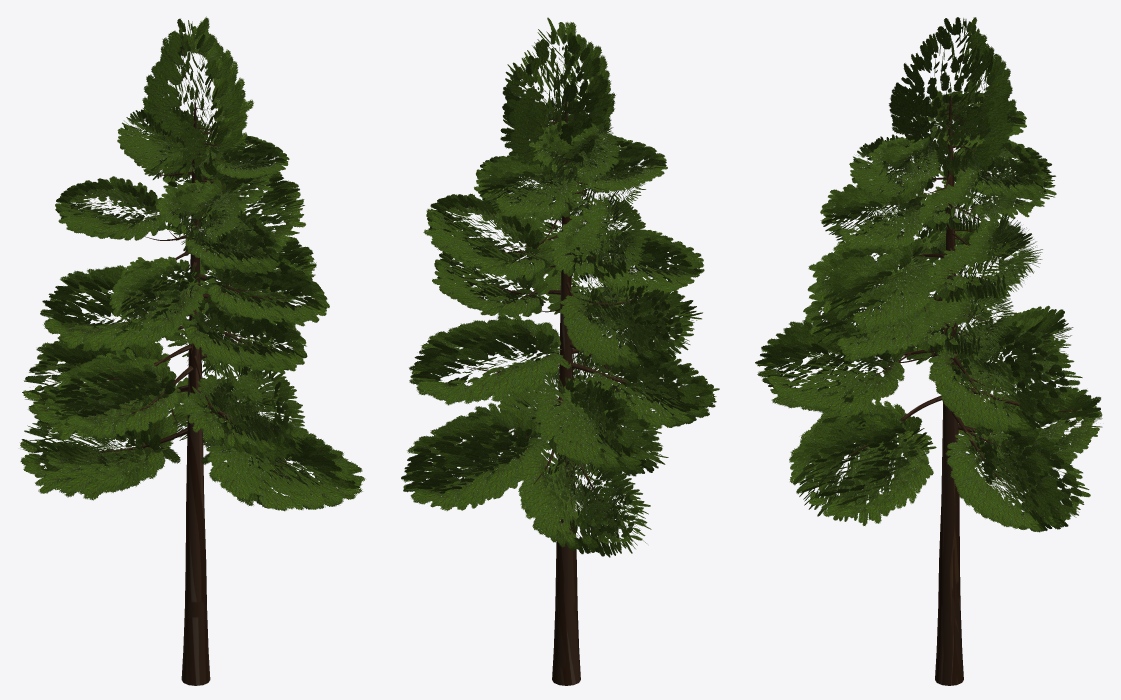
The model's file is pine.fbx.
3 renders of one model, left to right at view 1: azimuth 30°, elevation 25°; view 2: azimuth 150°, elevation 25°; view 3: azimuth 270°, elevation 25°, orthographic.
Visible parts, largest first — view 1: Plane.056; view 2: Plane.056; view 3: Plane.056.
Part boxes in pixels (bbox=[...]): Plane.056: bbox=[20, 16, 365, 685]; Plane.056: bbox=[401, 17, 719, 685]; Plane.056: bbox=[755, 17, 1102, 685].
Bounding box in the file's own units: 453 × 1062 × 513.
